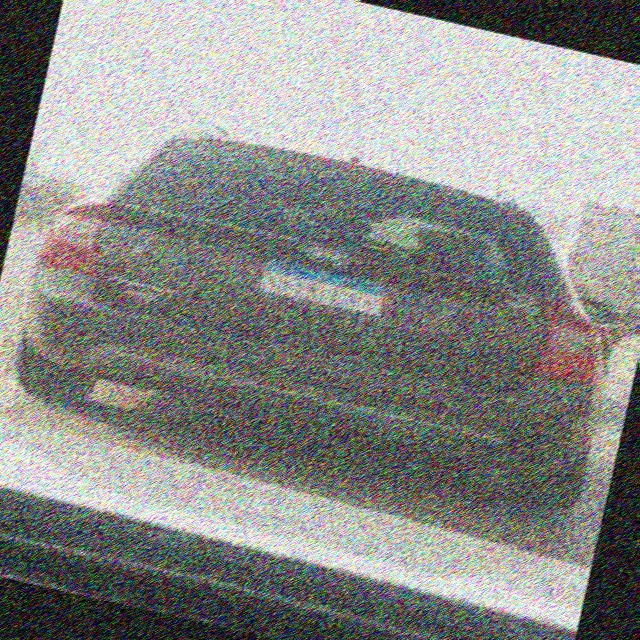License Plate: (254, 254, 392, 319)
